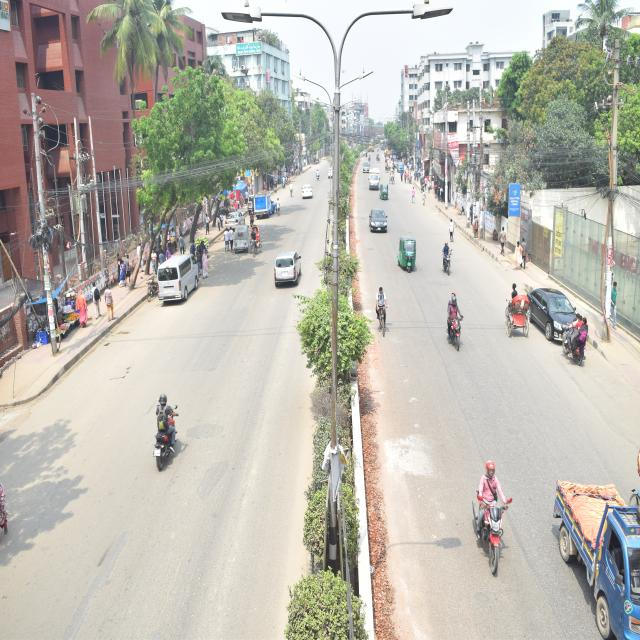car: (514, 276, 603, 374), (267, 233, 328, 310), (222, 198, 252, 262), (361, 198, 393, 244), (322, 157, 343, 191), (296, 171, 316, 206)
microbus: (140, 230, 212, 326)
motorbike: (462, 442, 528, 584), (134, 382, 198, 471), (434, 280, 484, 370), (554, 296, 593, 361), (440, 236, 462, 282), (312, 162, 322, 188)
pickup-van: (536, 452, 640, 640), (249, 189, 277, 241), (365, 164, 381, 195)
